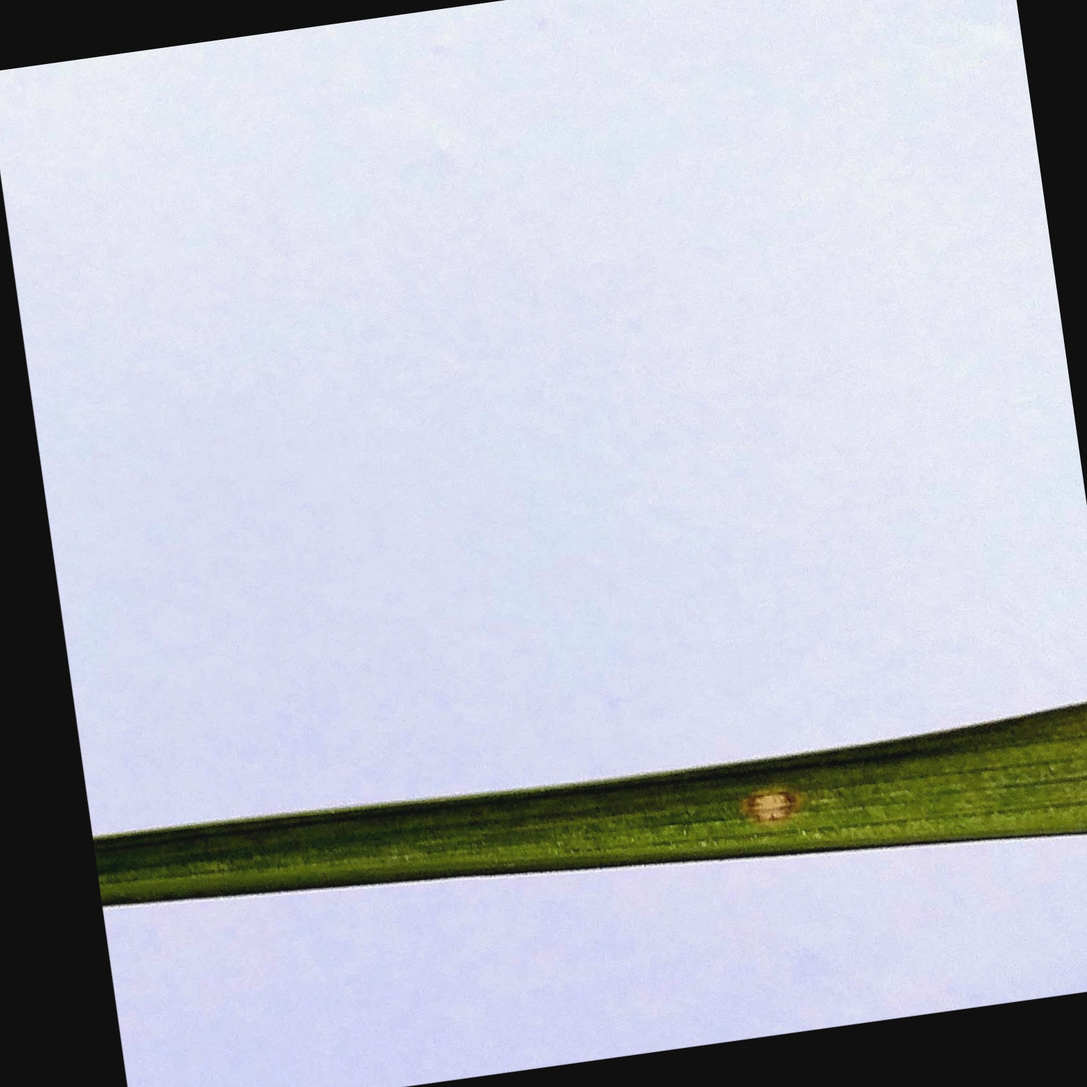Brown_Spot: (737, 783, 808, 830)
